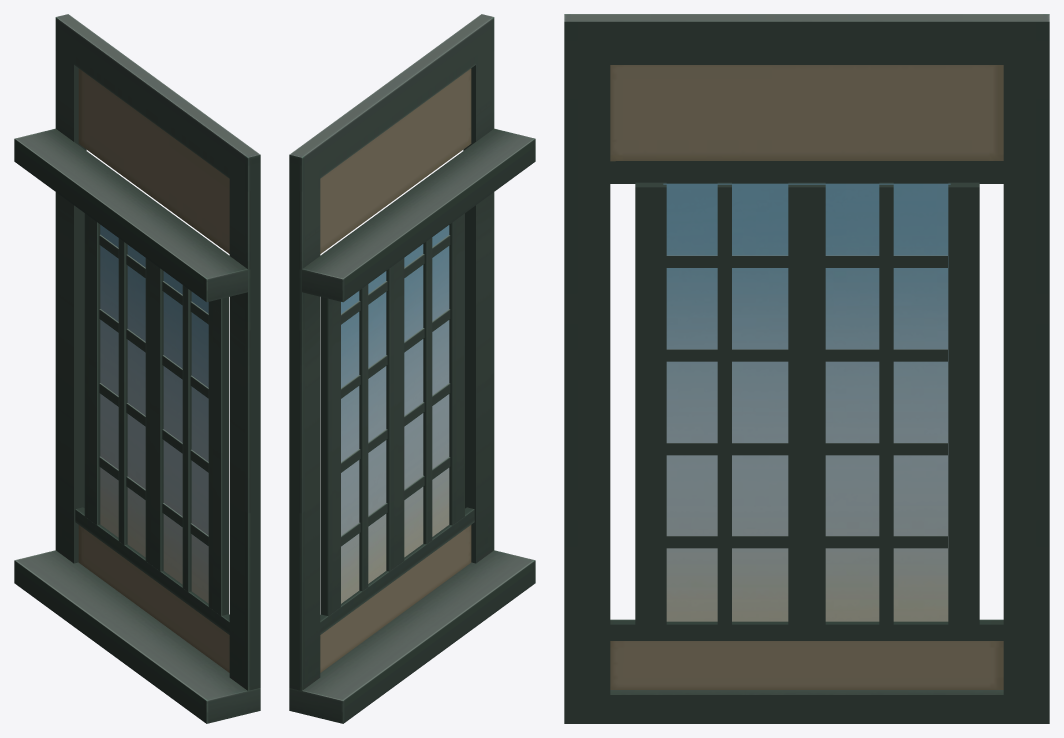
Rendered from my_newyearpath_01_window.glb.
3 renders of one model, left to right at view 1: azimuth 30°, elevation 25°; view 2: azimuth 150°, elevation 25°; view 3: azimuth 270°, elevation 25°, orthographic. The views are drawn at different scales.
Visible parts, largest first — view 1: my_newyearpath_01_window; view 2: my_newyearpath_01_window; view 3: my_newyearpath_01_window.
Part boxes in pixels (x1,y1,x2,y2): my_newyearpath_01_window: [14, 14, 260, 723]; my_newyearpath_01_window: [289, 14, 535, 723]; my_newyearpath_01_window: [564, 14, 1049, 723].
Size of the model in its own units: 0.00114 by 0.0113 by 0.00707.
1 material, 1 textured.
